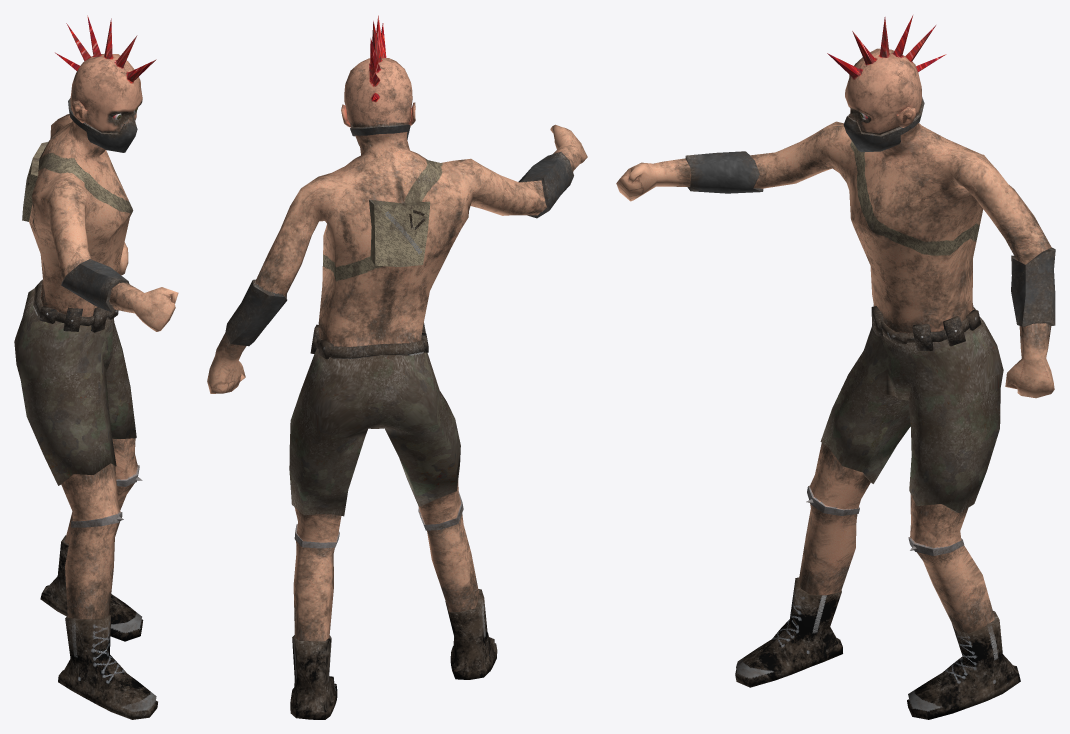
File: Anim_disparar_pistola_npc2.0025.obj
3 views of the same model, side by side, from view 1: azimuth 30°, elevation 25°; view 2: azimuth 150°, elevation 25°; view 3: azimuth 270°, elevation 25° (orthographic). The views are drawn at different scales.
Visible parts, largest first — view 1: polySurface1; view 2: polySurface1; view 3: polySurface1.
Boxes of the visible parts, x1,y1,x2,y2 form: polySurface1: (14,15,178,719); polySurface1: (207,15,587,719); polySurface1: (616,15,1055,719).
Bounding box in the file's own units: 3.13 × 10.06 × 5.87.
Materials: 2 (2 with a texture image).
